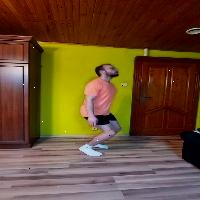high_jumps: (66, 57, 131, 167)
